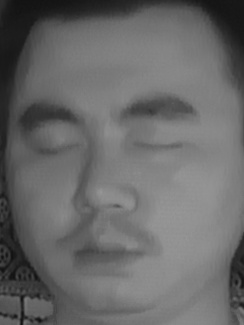blink: (130, 125, 181, 167), (32, 128, 83, 166)
mouth: (62, 223, 150, 279)
